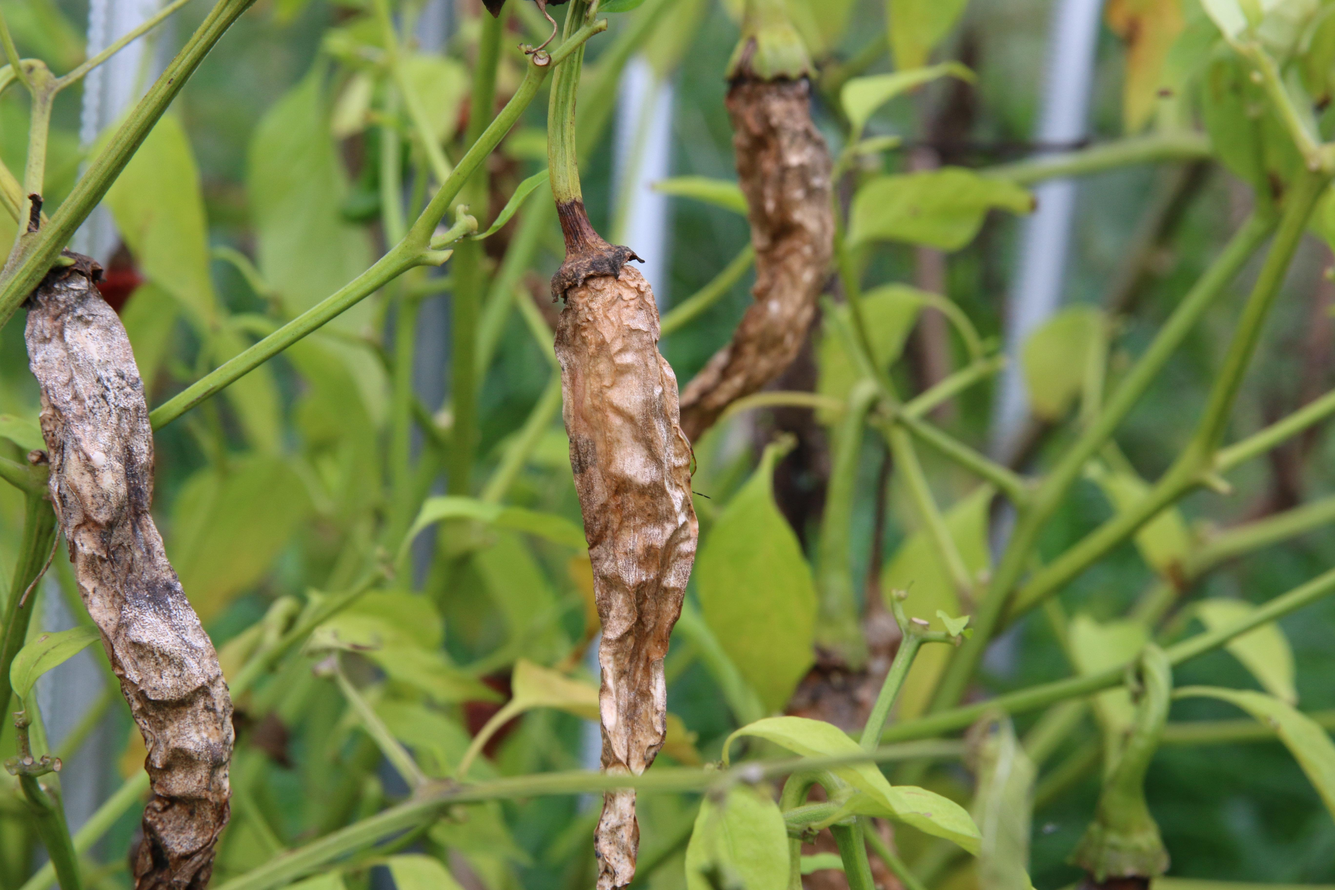Busuk Buah Antraknosa: (15, 255, 252, 890), (542, 228, 706, 890), (678, 40, 841, 456)
